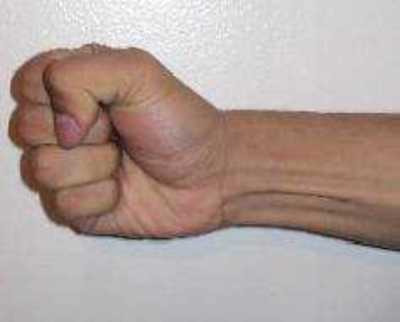closedhandfront: (5, 16, 250, 269)
